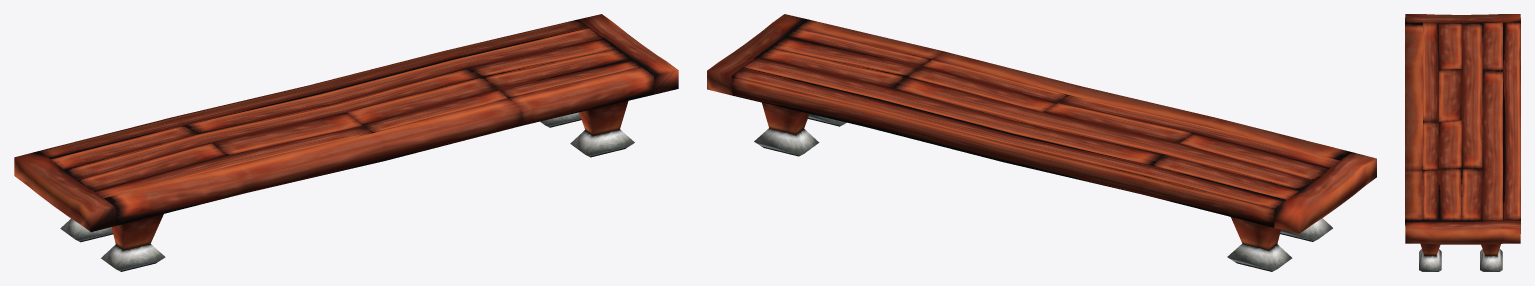
Rendered from bench_wood_2m.DAE.
3 views of the same model, side by side, from view 1: azimuth 30°, elevation 25°; view 2: azimuth 150°, elevation 25°; view 3: azimuth 270°, elevation 25° (orthographic). The views are drawn at different scales.
Visible parts, largest first — view 1: Box02; view 2: Box02; view 3: Box02.
Part boxes in pixels (bbox=[...]): Box02: bbox=[14, 14, 678, 271]; Box02: bbox=[707, 14, 1376, 271]; Box02: bbox=[1405, 14, 1520, 271].
Bounding box in the file's own units: 2.17 × 0.2858 × 0.4926.
